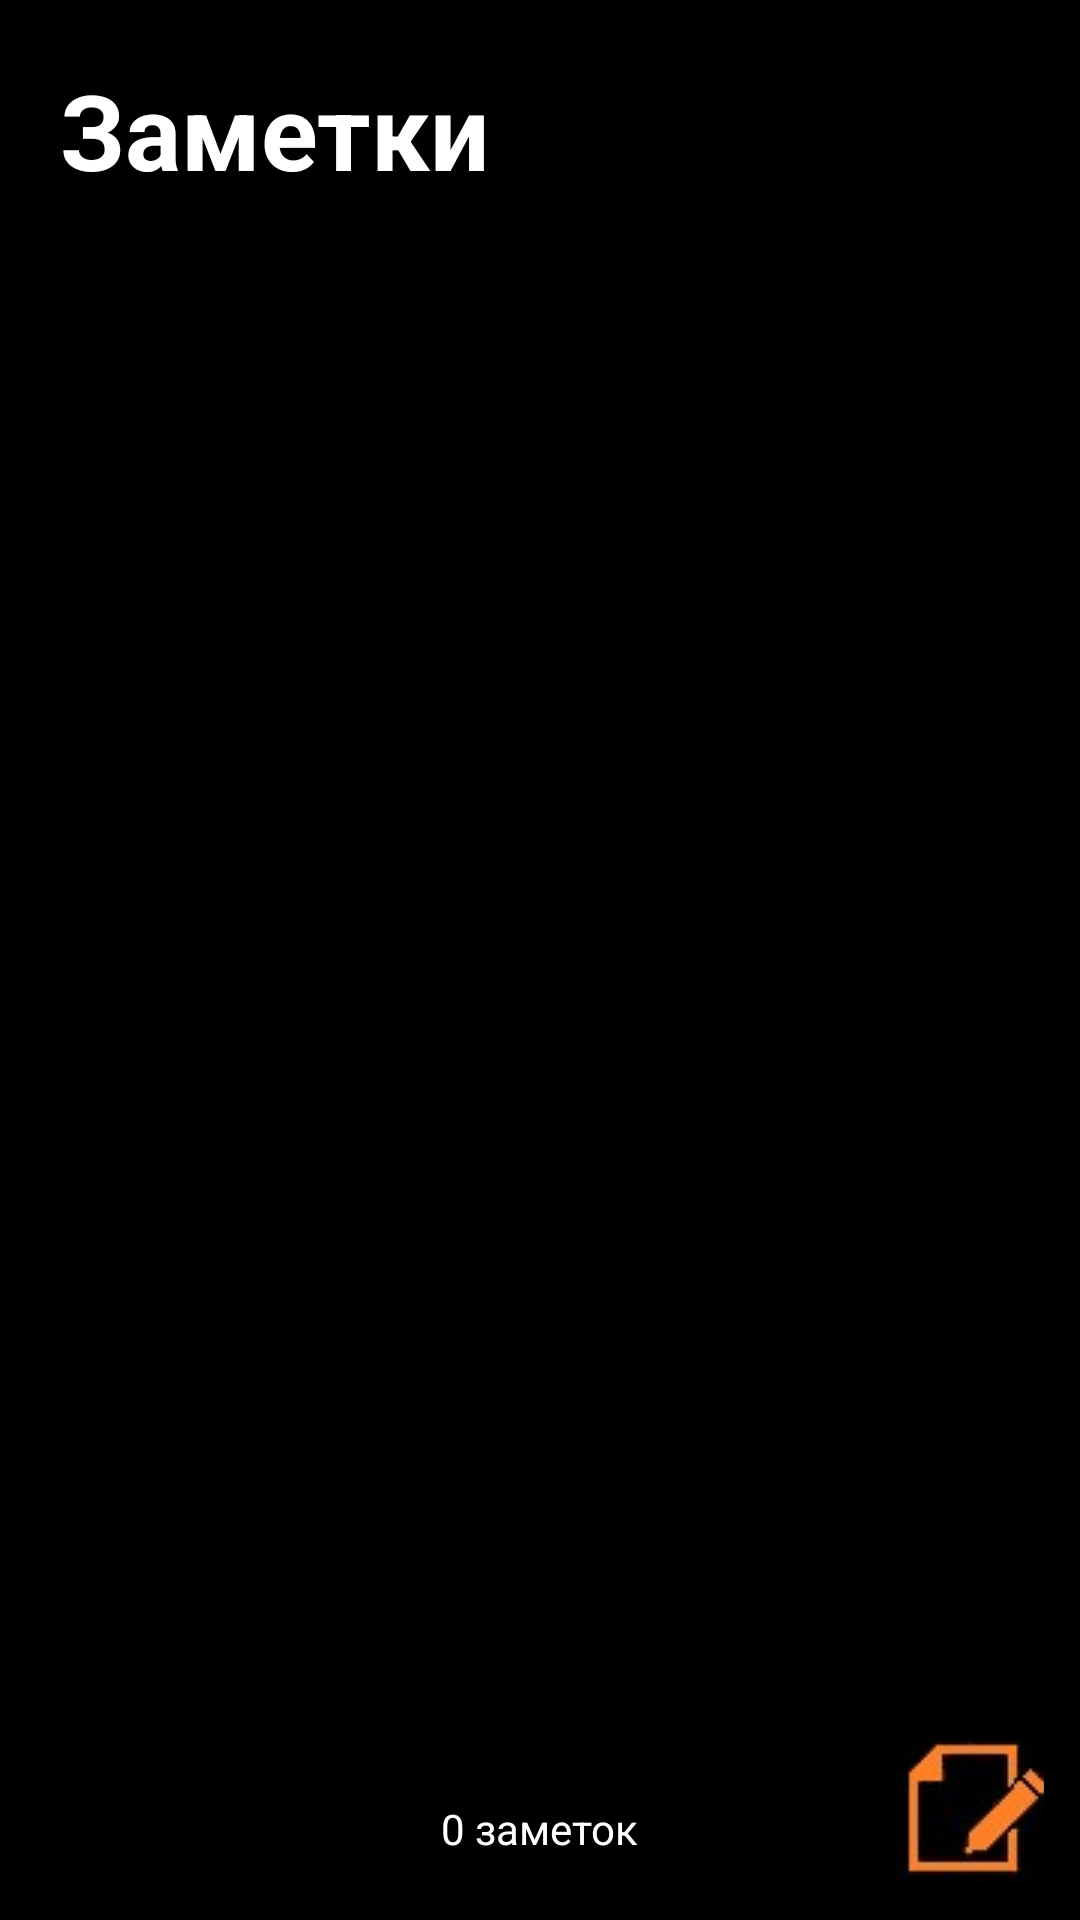

Locate icon controls on the screen. Image size 1080px×1920px, boxes as [x1,y1,x2,y2].
note: [906,1742,1044,1875]
